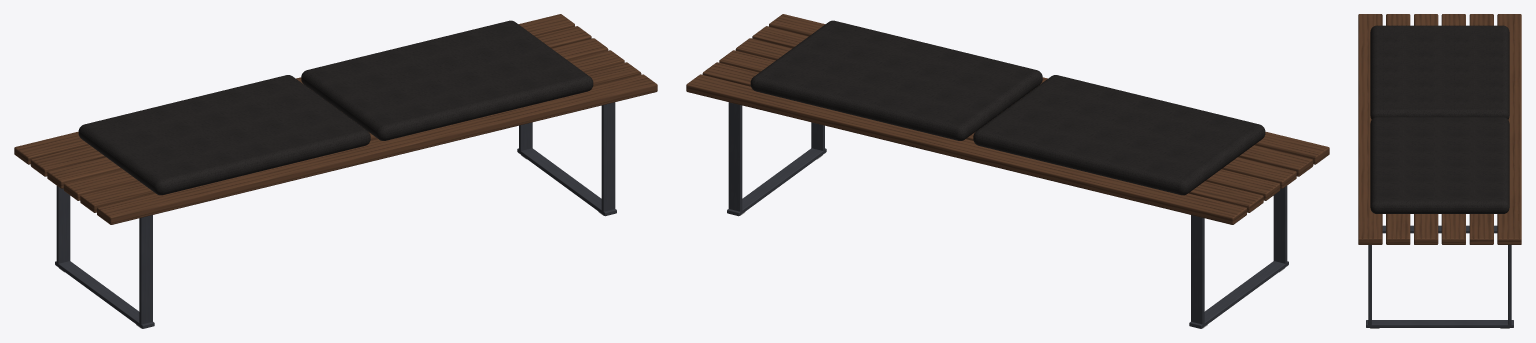
Rendered from lobby_bench.glb.
3 views of the same model, side by side, from view 1: azimuth 30°, elevation 25°; view 2: azimuth 150°, elevation 25°; view 3: azimuth 270°, elevation 25° (orthographic). The views are drawn at different scales.
Parts seen in each view (by area): view 1: cushion_l_leather_black_0, cushion_r_leather_black_0, slats_wood_walnut_5, slats_wood_walnut_4, slats_wood_walnut_0, slats_wood_walnut_1, slats_wood_walnut_2, slats_wood_walnut_3, frame_alloy_dark_6, frame_alloy_dark_0, frame_alloy_dark_3, frame_alloy_dark_9 (+1 smaller); view 2: cushion_l_leather_black_0, cushion_r_leather_black_0, slats_wood_walnut_0, slats_wood_walnut_1, slats_wood_walnut_5, slats_wood_walnut_4, slats_wood_walnut_2, slats_wood_walnut_3, frame_alloy_dark_7, frame_alloy_dark_1, frame_alloy_dark_3, frame_alloy_dark_9 (+1 smaller); view 3: cushion_l_leather_black_0, cushion_r_leather_black_0, slats_wood_walnut_0, slats_wood_walnut_5, frame_alloy_dark_9, slats_wood_walnut_1, slats_wood_walnut_4, slats_wood_walnut_2, slats_wood_walnut_3, frame_alloy_dark_6, frame_alloy_dark_7, frame_alloy_dark_8.
Boxes of the visible parts, bbox=[...] form: cushion_l_leather_black_0: bbox=[301, 20, 593, 140]; cushion_r_leather_black_0: bbox=[78, 75, 370, 195]; slats_wood_walnut_5: bbox=[97, 74, 657, 224]; slats_wood_walnut_4: bbox=[80, 62, 641, 212]; slats_wood_walnut_0: bbox=[14, 14, 574, 164]; slats_wood_walnut_1: bbox=[30, 26, 591, 176]; slats_wood_walnut_2: bbox=[47, 38, 608, 188]; slats_wood_walnut_3: bbox=[63, 50, 624, 200]; frame_alloy_dark_6: bbox=[601, 102, 615, 211]; frame_alloy_dark_0: bbox=[139, 215, 152, 327]; frame_alloy_dark_3: bbox=[55, 261, 154, 328]; frame_alloy_dark_9: bbox=[517, 148, 616, 216]; cushion_l_leather_black_0: bbox=[750, 20, 1042, 140]; cushion_r_leather_black_0: bbox=[973, 75, 1265, 195]; slats_wood_walnut_0: bbox=[686, 74, 1246, 224]; slats_wood_walnut_1: bbox=[702, 62, 1263, 212]; slats_wood_walnut_5: bbox=[769, 14, 1329, 164]; slats_wood_walnut_4: bbox=[752, 26, 1313, 176]; slats_wood_walnut_2: bbox=[719, 50, 1280, 200]; slats_wood_walnut_3: bbox=[735, 38, 1296, 188]; frame_alloy_dark_7: bbox=[728, 102, 742, 214]; frame_alloy_dark_1: bbox=[1191, 215, 1204, 324]; frame_alloy_dark_3: bbox=[1189, 261, 1288, 328]; frame_alloy_dark_9: bbox=[727, 148, 826, 216]; cushion_l_leather_black_0: bbox=[1370, 117, 1509, 213]; cushion_r_leather_black_0: bbox=[1370, 25, 1509, 119]; slats_wood_walnut_0: bbox=[1497, 14, 1521, 244]; slats_wood_walnut_5: bbox=[1358, 14, 1382, 244]; frame_alloy_dark_9: bbox=[1366, 320, 1513, 327]; slats_wood_walnut_1: bbox=[1469, 14, 1493, 244]; slats_wood_walnut_4: bbox=[1386, 14, 1410, 244]; slats_wood_walnut_2: bbox=[1441, 14, 1465, 244]; slats_wood_walnut_3: bbox=[1414, 14, 1438, 244]; frame_alloy_dark_6: bbox=[1368, 245, 1371, 327]; frame_alloy_dark_7: bbox=[1508, 245, 1511, 327]; frame_alloy_dark_8: bbox=[1382, 225, 1497, 233].
Size of what is drawn, in the model's own units: 1.8 by 0.4426 by 0.552.
5 materials, 5 textured.
